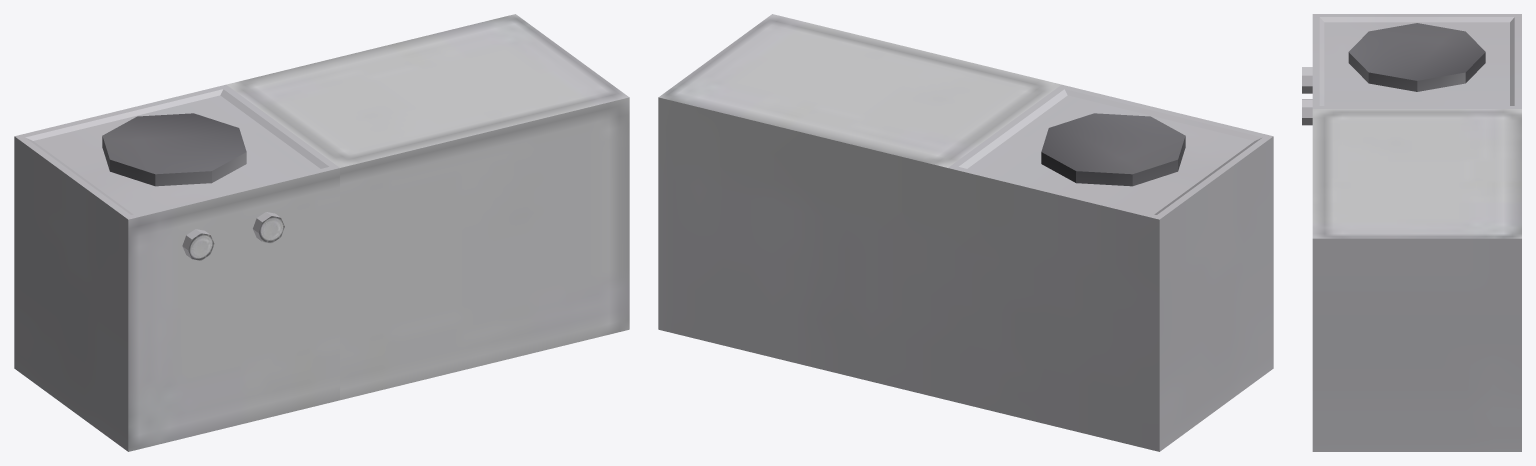
The model's file is stove.fbx.
The picture shows the model from 3 angles, left to right: view 1: azimuth 30°, elevation 25°; view 2: azimuth 150°, elevation 25°; view 3: azimuth 270°, elevation 25°; orthographic projection. The views are drawn at different scales.
Visible parts, largest first — view 1: Cube.007; view 2: Cube.007; view 3: Cube.007.
Boxes of the visible parts, left/top/right/bottom form: Cube.007: left=14, top=14, right=629, bottom=451; Cube.007: left=658, top=14, right=1273, bottom=451; Cube.007: left=1302, top=14, right=1521, bottom=451.
Size of the model in its own units: 203 by 93.49 by 83.99.
